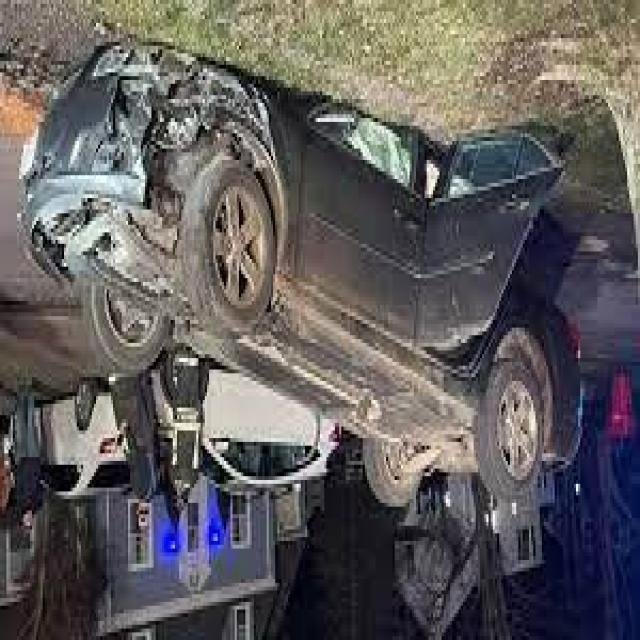severe: (15, 34, 589, 510)
